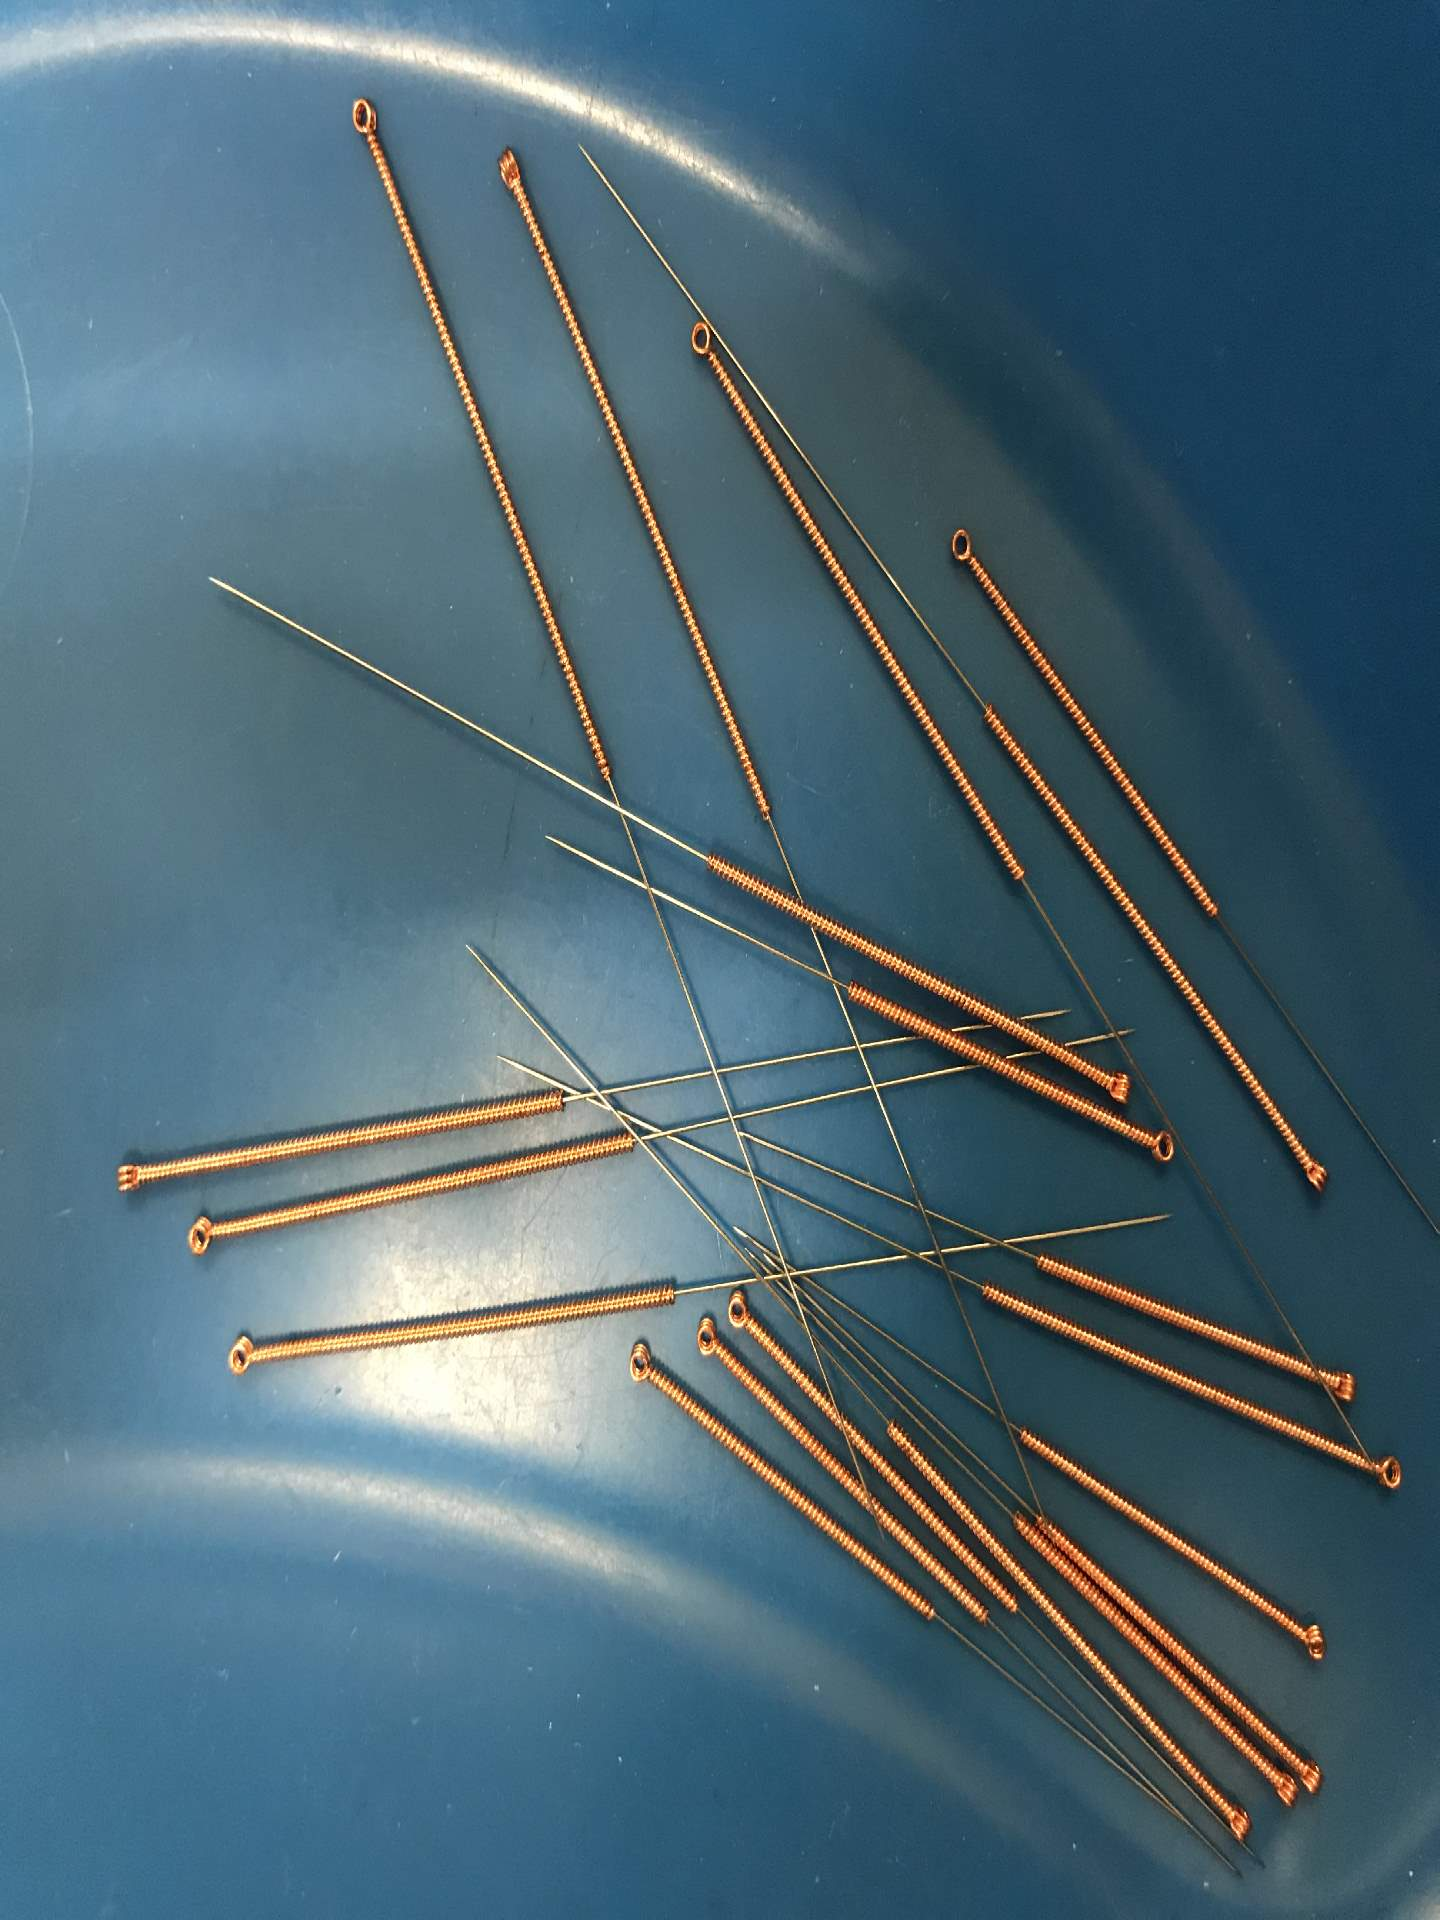needle: (479, 135, 535, 209), (336, 85, 390, 159), (174, 1206, 237, 1264), (678, 308, 728, 378), (216, 1326, 272, 1386), (98, 1150, 157, 1206), (939, 517, 988, 581), (1286, 1615, 1339, 1671), (1290, 1146, 1340, 1203), (1364, 1442, 1411, 1503), (619, 1335, 666, 1392), (1317, 1361, 1366, 1411), (685, 1311, 728, 1364), (720, 1287, 762, 1336), (1141, 1122, 1183, 1170), (1218, 1798, 1258, 1847), (1265, 1763, 1304, 1814), (1097, 1061, 1136, 1111), (1296, 1751, 1330, 1801)
